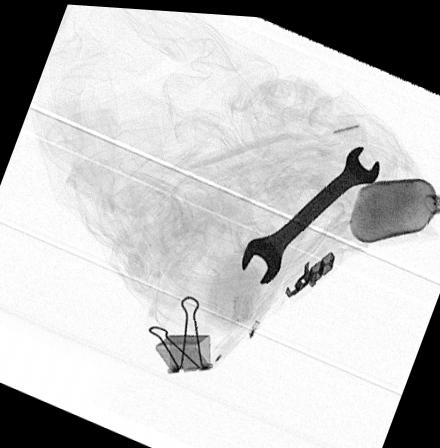Wrench: (241, 141, 382, 281)
